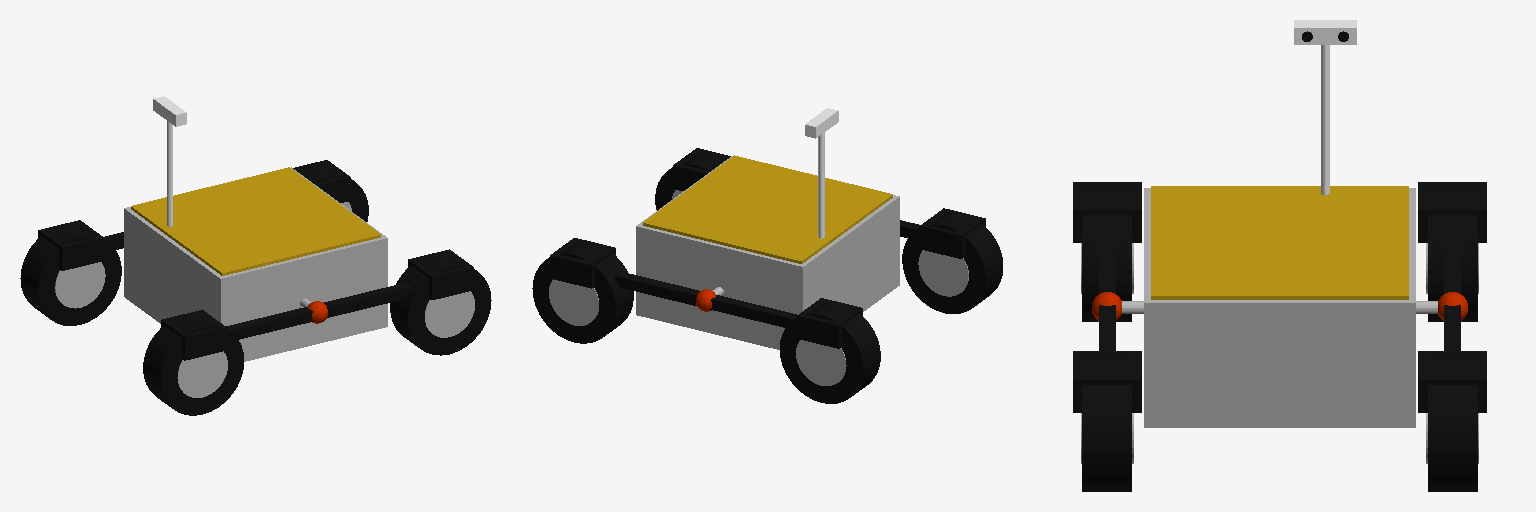
The robot description file, URDF, robot "ares_nova_v2":
<?xml version="1.0" ?>
<!-- =================================================================================== -->
<!-- |    This document was autogenerated by xacro from rover.urdf.xacro               | -->
<!-- |    EDITING THIS FILE BY HAND IS NOT RECOMMENDED                                 | -->
<!-- =================================================================================== -->
<robot name="ares_nova_v2">
  <!-- MATERIALS -->
  <material name="black">
    <color rgba="0.1 0.1 0.1 1"/>
  </material>
  <material name="white">
    <color rgba="0.95 0.95 0.95 1"/>
  </material>
  <material name="grey">
    <color rgba="0.5 0.5 0.5 1"/>
  </material>
  <material name="silver">
    <color rgba="0.75 0.75 0.75 1"/>
  </material>
  <material name="gold">
    <color rgba="0.8 0.65 0.1 1"/>
  </material>
  <material name="accent">
    <color rgba="0.8 0.2 0.0 1"/>
  </material>
  <link name="base_footprint"/>
  <joint name="base_footprint_joint" type="fixed">
    <parent link="base_footprint"/>
    <child link="base_link"/>
    <origin rpy="0.0 0.0 0.0" xyz="0.0 0.0 0.225"/>
  </joint>
  <link name="base_link">
    <visual>
      <geometry>
        <box size="0.6 0.6 0.304"/>
      </geometry>
      <material name="silver"/>
    </visual>
    <collision>
      <geometry>
        <box size="0.6 0.6 0.304"/>
      </geometry>
    </collision>
    <inertial>
      <mass value="1.0"/>
      <inertia ixx="0.1" ixy="0.0" ixz="0.0" iyy="0.2" iyz="0.0" izz="0.2"/>
    </inertial>
  </link>
  <link name="top_deck_link">
    <visual>
      <geometry>
        <box size="0.57 0.57 0.01"/>
      </geometry>
      <material name="gold"/>
    </visual>
  </link>
  <joint name="top_deck_joint" type="fixed">
    <parent link="base_link"/>
    <child link="top_deck_link"/>
    <origin rpy="0.0 0.0 0.0" xyz="0.0 0.0 0.157"/>
  </joint>
  <link name="imu_link"/>
  <joint name="imu_joint" type="fixed">
    <parent link="base_link"/>
    <child link="imu_link"/>
    <origin rpy="0.0 0.0 0.0" xyz="0.0 0.0 0.0"/>
  </joint>
  <link name="mast_link">
    <visual>
      <geometry>
        <cylinder length="0.4" radius="0.01"/>
      </geometry>
      <origin rpy="0.0 0.0 0.0" xyz="0.0 0.0 0.2"/>
      <material name="white"/>
    </visual>
    <collision>
      <geometry>
        <cylinder length="0.4" radius="0.01"/>
      </geometry>
      <origin rpy="0.0 0.0 0.0" xyz="0.0 0.0 0.2"/>
    </collision>
    <inertial>
      <mass value="0.2"/>
      <inertia ixx="0.001" ixy="0.0" ixz="0.0" iyy="0.001" iyz="0.0" izz="0.001"/>
    </inertial>
  </link>
  <joint name="mast_joint" type="fixed">
    <parent link="base_link"/>
    <child link="mast_link"/>
    <origin rpy="0.0 0.0 0.0" xyz="-0.25 0.1 0.152"/>
  </joint>
  <link name="camera_link">
    <visual>
      <geometry>
        <box size="0.04 0.14 0.04"/>
      </geometry>
      <material name="white"/>
    </visual>
    <visual>
      <origin rpy="0.0 1.5708 0.0" xyz="0.02 0.04 0.0"/>
      <geometry>
        <cylinder length="0.01" radius="0.012"/>
      </geometry>
      <material name="black"/>
    </visual>
    <visual>
      <origin rpy="0.0 1.5708 0.0" xyz="0.02 -0.04 0.0"/>
      <geometry>
        <cylinder length="0.01" radius="0.012"/>
      </geometry>
      <material name="black"/>
    </visual>
  </link>
  <joint name="camera_joint" type="fixed">
    <parent link="mast_link"/>
    <child link="camera_link"/>
    <origin rpy="0.0 0.0 0.0" xyz="0.0 0.0 0.4"/>
  </joint>
  <link name="camera_optical_link"/>
  <joint name="camera_optical_joint" type="fixed">
    <parent link="camera_link"/>
    <child link="camera_optical_link"/>
    <origin rpy="-1.5708 0.0 -1.5708" xyz="0.0 0.0 0.0"/>
  </joint>
  <link name="left_suspension_link">
    <visual>
      <geometry>
        <box size="0.885 0.0367 0.0367"/>
      </geometry>
      <origin rpy="0.0 0.0 0.0" xyz="0.0 0.0 0.0"/>
      <material name="black"/>
    </visual>
    <visual>
      <geometry>
        <sphere radius="0.035"/>
      </geometry>
      <origin rpy="0.0 0.0 0.0" xyz="0.0 0.0 0.0"/>
      <material name="accent"/>
    </visual>
    <visual>
      <geometry>
        <cylinder length="0.08" radius="0.015"/>
      </geometry>
      <origin rpy="1.5708 0.0 0.0" xyz="0.0 -0.04 0.0"/>
      <material name="silver"/>
    </visual>
    <collision>
      <geometry>
        <box size="0.885 0.0367 0.0367"/>
      </geometry>
      <origin rpy="0.0 0.0 0.0" xyz="0.0 0.0 0.0"/>
    </collision>
    <inertial>
      <mass value="1.0"/>
      <inertia ixx="0.01" ixy="0.0" ixz="0.0" iyy="0.05" iyz="0.0" izz="0.05"/>
    </inertial>
  </link>
  <joint name="left_suspension_joint" type="fixed">
    <parent link="base_link"/>
    <child link="left_suspension_link"/>
    <origin rpy="0.0 0.0 0.0" xyz="0.0 0.38 0.0"/>
  </joint>
  <link name="right_suspension_link">
    <visual>
      <geometry>
        <box size="0.885 0.0367 0.0367"/>
      </geometry>
      <origin rpy="0.0 0.0 0.0" xyz="0.0 0.0 0.0"/>
      <material name="black"/>
    </visual>
    <visual>
      <geometry>
        <sphere radius="0.035"/>
      </geometry>
      <origin rpy="0.0 0.0 0.0" xyz="0.0 0.0 0.0"/>
      <material name="accent"/>
    </visual>
    <visual>
      <geometry>
        <cylinder length="0.08" radius="0.015"/>
      </geometry>
      <origin rpy="1.5708 0.0 0.0" xyz="0.0 0.04 0.0"/>
      <material name="silver"/>
    </visual>
    <collision>
      <geometry>
        <box size="0.885 0.0367 0.0367"/>
      </geometry>
      <origin rpy="0.0 0.0 0.0" xyz="0.0 0.0 0.0"/>
    </collision>
    <inertial>
      <mass value="1.0"/>
      <inertia ixx="0.01" ixy="0.0" ixz="0.0" iyy="0.05" iyz="0.0" izz="0.05"/>
    </inertial>
  </link>
  <joint name="right_suspension_joint" type="fixed">
    <parent link="base_link"/>
    <child link="right_suspension_link"/>
    <origin rpy="0.0 0.0 0.0" xyz="0.0 -0.38 0.0"/>
  </joint>
  <link name="front_left_steering_link">
    <visual>
      <geometry>
        <box size="0.15 0.15 0.08"/>
      </geometry>
      <material name="black"/>
    </visual>
    <inertial>
      <mass value="1.0"/>
      <inertia ixx="0.001" ixy="0.0" ixz="0.0" iyy="0.001" iyz="0.0" izz="0.001"/>
    </inertial>
  </link>
  <joint name="front_left_steering_joint" type="revolute">
    <parent link="left_suspension_link"/>
    <child link="front_left_steering_link"/>
    <origin rpy="0.0 0.0 0.0" xyz="0.4425 0.0 0.025"/>
    <axis xyz="0 0 1"/>
    <limit effort="50.0" lower="-1.57" upper="1.57" velocity="2.0"/>
  </joint>
  <link name="front_left_wheel_link">
    <visual>
      <geometry>
        <cylinder length="0.11" radius="0.15"/>
      </geometry>
      <material name="black"/>
    </visual>
    <visual>
      <geometry>
        <cylinder length="0.115" radius="0.09"/>
      </geometry>
      <material name="silver"/>
    </visual>
    <collision>
      <geometry>
        <cylinder length="0.11" radius="0.15"/>
      </geometry>
    </collision>
    <inertial>
      <mass value="1.0"/>
      <inertia ixx="0.01" ixy="0.0" ixz="0.0" iyy="0.01" iyz="0.0" izz="0.01"/>
    </inertial>
  </link>
  <joint name="front_left_drive_joint" type="continuous">
    <parent link="front_left_steering_link"/>
    <child link="front_left_wheel_link"/>
    <origin rpy="-1.5708 0.0 0.0" xyz="0.0 0.0 -0.1"/>
    <axis xyz="0 0 1"/>
  </joint>
  <link name="rear_left_steering_link">
    <visual>
      <geometry>
        <box size="0.15 0.15 0.08"/>
      </geometry>
      <material name="black"/>
    </visual>
    <inertial>
      <mass value="1.0"/>
      <inertia ixx="0.001" ixy="0.0" ixz="0.0" iyy="0.001" iyz="0.0" izz="0.001"/>
    </inertial>
  </link>
  <joint name="rear_left_steering_joint" type="revolute">
    <parent link="left_suspension_link"/>
    <child link="rear_left_steering_link"/>
    <origin rpy="0.0 0.0 0.0" xyz="-0.4425 0.0 0.025"/>
    <axis xyz="0 0 1"/>
    <limit effort="50.0" lower="-1.57" upper="1.57" velocity="2.0"/>
  </joint>
  <link name="rear_left_wheel_link">
    <visual>
      <geometry>
        <cylinder length="0.11" radius="0.15"/>
      </geometry>
      <material name="black"/>
    </visual>
    <visual>
      <geometry>
        <cylinder length="0.115" radius="0.09"/>
      </geometry>
      <material name="silver"/>
    </visual>
    <collision>
      <geometry>
        <cylinder length="0.11" radius="0.15"/>
      </geometry>
    </collision>
    <inertial>
      <mass value="1.0"/>
      <inertia ixx="0.01" ixy="0.0" ixz="0.0" iyy="0.01" iyz="0.0" izz="0.01"/>
    </inertial>
  </link>
  <joint name="rear_left_drive_joint" type="continuous">
    <parent link="rear_left_steering_link"/>
    <child link="rear_left_wheel_link"/>
    <origin rpy="-1.5708 0.0 0.0" xyz="0.0 0.0 -0.1"/>
    <axis xyz="0 0 1"/>
  </joint>
  <link name="front_right_steering_link">
    <visual>
      <geometry>
        <box size="0.15 0.15 0.08"/>
      </geometry>
      <material name="black"/>
    </visual>
    <inertial>
      <mass value="1.0"/>
      <inertia ixx="0.001" ixy="0.0" ixz="0.0" iyy="0.001" iyz="0.0" izz="0.001"/>
    </inertial>
  </link>
  <joint name="front_right_steering_joint" type="revolute">
    <parent link="right_suspension_link"/>
    <child link="front_right_steering_link"/>
    <origin rpy="0.0 0.0 0.0" xyz="0.4425 0.0 0.025"/>
    <axis xyz="0 0 1"/>
    <limit effort="50.0" lower="-1.57" upper="1.57" velocity="2.0"/>
  </joint>
  <link name="front_right_wheel_link">
    <visual>
      <geometry>
        <cylinder length="0.11" radius="0.15"/>
      </geometry>
      <material name="black"/>
    </visual>
    <visual>
      <geometry>
        <cylinder length="0.115" radius="0.09"/>
      </geometry>
      <material name="silver"/>
    </visual>
    <collision>
      <geometry>
        <cylinder length="0.11" radius="0.15"/>
      </geometry>
    </collision>
    <inertial>
      <mass value="1.0"/>
      <inertia ixx="0.01" ixy="0.0" ixz="0.0" iyy="0.01" iyz="0.0" izz="0.01"/>
    </inertial>
  </link>
  <joint name="front_right_drive_joint" type="continuous">
    <parent link="front_right_steering_link"/>
    <child link="front_right_wheel_link"/>
    <origin rpy="-1.5708 0.0 0.0" xyz="0.0 0.0 -0.1"/>
    <axis xyz="0 0 1"/>
  </joint>
  <link name="rear_right_steering_link">
    <visual>
      <geometry>
        <box size="0.15 0.15 0.08"/>
      </geometry>
      <material name="black"/>
    </visual>
    <inertial>
      <mass value="1.0"/>
      <inertia ixx="0.001" ixy="0.0" ixz="0.0" iyy="0.001" iyz="0.0" izz="0.001"/>
    </inertial>
  </link>
  <joint name="rear_right_steering_joint" type="revolute">
    <parent link="right_suspension_link"/>
    <child link="rear_right_steering_link"/>
    <origin rpy="0.0 0.0 0.0" xyz="-0.4425 0.0 0.025"/>
    <axis xyz="0 0 1"/>
    <limit effort="50.0" lower="-1.57" upper="1.57" velocity="2.0"/>
  </joint>
  <link name="rear_right_wheel_link">
    <visual>
      <geometry>
        <cylinder length="0.11" radius="0.15"/>
      </geometry>
      <material name="black"/>
    </visual>
    <visual>
      <geometry>
        <cylinder length="0.115" radius="0.09"/>
      </geometry>
      <material name="silver"/>
    </visual>
    <collision>
      <geometry>
        <cylinder length="0.11" radius="0.15"/>
      </geometry>
    </collision>
    <inertial>
      <mass value="1.0"/>
      <inertia ixx="0.01" ixy="0.0" ixz="0.0" iyy="0.01" iyz="0.0" izz="0.01"/>
    </inertial>
  </link>
  <joint name="rear_right_drive_joint" type="continuous">
    <parent link="rear_right_steering_link"/>
    <child link="rear_right_wheel_link"/>
    <origin rpy="-1.5708 0.0 0.0" xyz="0.0 0.0 -0.1"/>
    <axis xyz="0 0 1"/>
  </joint>
  <!-- ROS 2 CONTROL HARDWARE INTERFACES -->
  <ros2_control name="IgnitionSystem" type="system">
    <hardware>
      <plugin>gz_ros2_control/GazeboSimSystem</plugin>
    </hardware>
    <joint name="front_left_steering_joint">
      <command_interface name="position"/>
      <state_interface name="position"/>
    </joint>
    <joint name="front_right_steering_joint">
      <command_interface name="position"/>
      <state_interface name="position"/>
    </joint>
    <joint name="rear_left_steering_joint">
      <command_interface name="position"/>
      <state_interface name="position"/>
    </joint>
    <joint name="rear_right_steering_joint">
      <command_interface name="position"/>
      <state_interface name="position"/>
    </joint>
    <joint name="front_left_drive_joint">
      <command_interface name="velocity"/>
      <state_interface name="velocity"/>
      <state_interface name="position"/>
    </joint>
    <joint name="front_right_drive_joint">
      <command_interface name="velocity"/>
      <state_interface name="velocity"/>
      <state_interface name="position"/>
    </joint>
    <joint name="rear_left_drive_joint">
      <command_interface name="velocity"/>
      <state_interface name="velocity"/>
      <state_interface name="position"/>
    </joint>
    <joint name="rear_right_drive_joint">
      <command_interface name="velocity"/>
      <state_interface name="velocity"/>
      <state_interface name="position"/>
    </joint>
  </ros2_control>
  <gazebo>
    <plugin filename="gz_ros2_control-system" name="gz_ros2_control::GazeboSimROS2ControlPlugin">
      <parameters>/home/yashvant/ros2_ws/install/ares_nova_v2/share/ares_nova_v2/config/ros2_controllers.yaml</parameters>
    </plugin>
  </gazebo>
  <!-- GAZEBO MATERIAL OVERRIDES -->
  <gazebo reference="top_deck_link">
    <material>
      <ambient>0.8 0.65 0.1 1.0</ambient>
      <diffuse>0.8 0.65 0.1 1.0</diffuse>
      <specular>0.5 0.5 0.5 1.0</specular>
    </material>
  </gazebo>
  <!-- GAZEBO SENSORS -->
  <gazebo reference="camera_link">
    <sensor name="rover_camera" type="camera">
      <always_on>1</always_on>
      <topic>/camera/image_raw</topic>
      <update_rate>30.0</update_rate>
      <visualize>true</visualize>
      <camera name="head">
        <horizontal_fov>1.3962634</horizontal_fov>
        <image>
          <width>800</width>
          <height>800</height>
          <format>R8G8B8</format>
        </image>
        <clip>
          <near>0.02</near>
          <far>300.0</far>
        </clip>
      </camera>
    </sensor>
  </gazebo>
  <gazebo reference="imu_link">
    <sensor name="rover_imu" type="imu">
      <always_on>1</always_on>
      <update_rate>50.0</update_rate>
      <ignition_frame_id>imu_link</ignition_frame_id>
      <gz_frame_id>imu_link</gz_frame_id>
      <plugin filename="libignition-gazebo-imu-system.so" name="ignition::gazebo::systems::Imu"/>
    </sensor>
  </gazebo>
</robot>

--- What the picture shows (computed from the rendered views, not written in the file) ---
The picture shows the robot from 3 angles, left to right: view 1: azimuth 30°, elevation 25°; view 2: azimuth 150°, elevation 25°; view 3: azimuth 270°, elevation 25°; orthographic projection.
Robot: ares_nova_v2 — 17 links, 16 joints (4 revolute, 4 continuous, 8 fixed); root link base_footprint; default pose: every joint at zero.
Visible links, largest first — view 1: base_link, top_deck_link, rear_left_wheel_link, rear_right_wheel_link, front_right_wheel_link, right_suspension_link, rear_left_steering_link, front_right_steering_link, rear_right_steering_link, front_left_wheel_link, front_left_steering_link, camera_link (+1 smaller); view 2: base_link, top_deck_link, rear_left_wheel_link, rear_right_wheel_link, front_left_wheel_link, left_suspension_link, rear_right_steering_link, rear_left_steering_link, front_left_steering_link, front_right_wheel_link, front_right_steering_link, mast_link (+1 smaller); view 3: base_link, top_deck_link, front_left_wheel_link, front_right_wheel_link, rear_left_wheel_link, rear_right_wheel_link, left_suspension_link, right_suspension_link, front_left_steering_link, front_right_steering_link, rear_left_steering_link, rear_right_steering_link (+2 smaller).
Link boxes in pixels (<box>): base_link: <box>124,167,387,361</box>; top_deck_link: <box>131,167,380,275</box>; rear_left_wheel_link: <box>20,223,121,325</box>; rear_right_wheel_link: <box>143,313,243,415</box>; front_right_wheel_link: <box>390,253,491,355</box>; right_suspension_link: <box>226,283,410,339</box>; rear_left_steering_link: <box>38,220,103,270</box>; front_right_steering_link: <box>408,249,473,299</box>; rear_right_steering_link: <box>161,310,226,360</box>; front_left_wheel_link: <box>296,163,368,221</box>; front_left_steering_link: <box>293,160,350,202</box>; camera_link: <box>153,96,186,126</box>; base_link: <box>636,156,899,349</box>; top_deck_link: <box>643,155,892,263</box>; rear_left_wheel_link: <box>780,301,880,403</box>; rear_right_wheel_link: <box>902,212,1002,313</box>; front_left_wheel_link: <box>532,241,633,343</box>; left_suspension_link: <box>613,271,796,327</box>; rear_right_steering_link: <box>920,208,985,258</box>; rear_left_steering_link: <box>797,298,862,348</box>; front_left_steering_link: <box>550,238,615,288</box>; front_right_wheel_link: <box>655,151,728,210</box>; front_right_steering_link: <box>673,148,730,190</box>; mast_link: <box>818,133,824,238</box>; base_link: <box>1144,188,1415,427</box>; top_deck_link: <box>1151,186,1408,299</box>; front_left_wheel_link: <box>1426,356,1478,491</box>; front_right_wheel_link: <box>1081,356,1133,491</box>; rear_left_wheel_link: <box>1426,186,1478,321</box>; rear_right_wheel_link: <box>1081,186,1133,321</box>; left_suspension_link: <box>1416,238,1467,350</box>; right_suspension_link: <box>1092,238,1143,350</box>; front_left_steering_link: <box>1418,351,1486,412</box>; front_right_steering_link: <box>1073,351,1141,412</box>; rear_left_steering_link: <box>1418,182,1486,242</box>; rear_right_steering_link: <box>1073,182,1141,242</box>.
Size in the robot's own frame: 1.19 by 0.91 by 0.797 metres.
Geometry: primitives only (box / cylinder / sphere), no mesh files.
